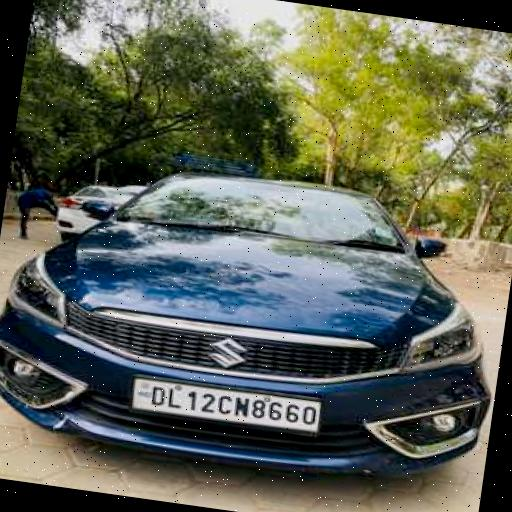license_plate`: (126, 374, 320, 432)
